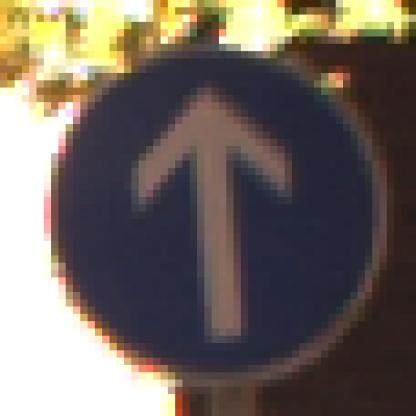AheadOnly: (38, 38, 381, 381)
